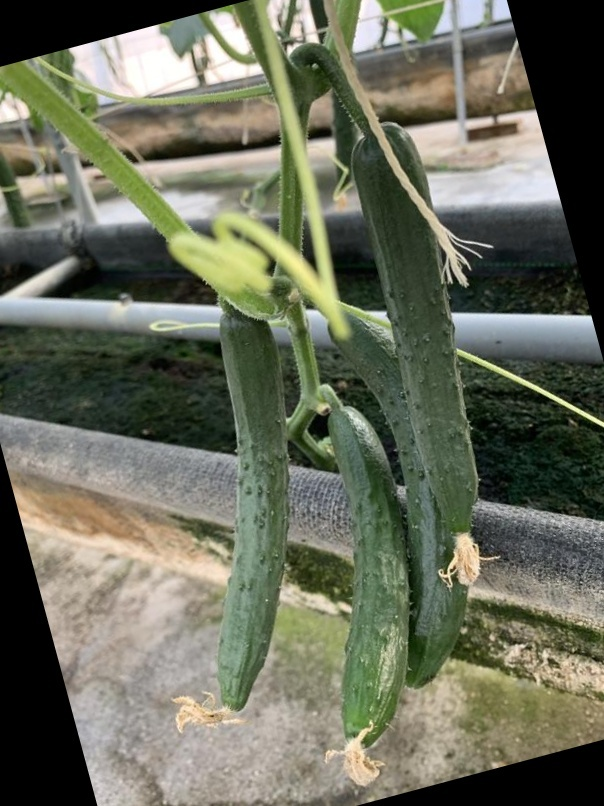mature: (350, 119, 484, 544), (205, 313, 292, 728), (325, 400, 410, 750)
